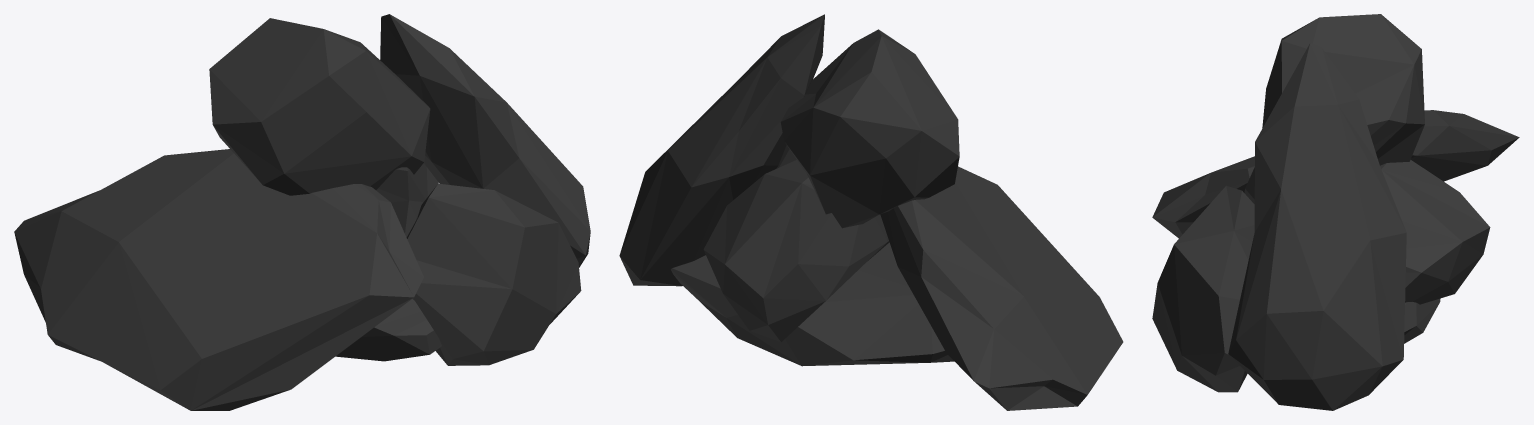
File: pedraGrup.fbx
3 views of the same model, side by side, from view 1: azimuth 30°, elevation 25°; view 2: azimuth 150°, elevation 25°; view 3: azimuth 270°, elevation 25° (orthographic). The views are drawn at different scales.
Parts seen in each view (by area): view 1: pedraGrup; view 2: pedraGrup; view 3: pedraGrup.
Boxes of the visible parts, x1=… form: pedraGrup: x1=14, y1=14, x2=590, y2=410; pedraGrup: x1=619, y1=14, x2=1123, y2=410; pedraGrup: x1=1152, y1=14, x2=1519, y2=410.
Size of the model in its own units: 458 by 300 by 312.
